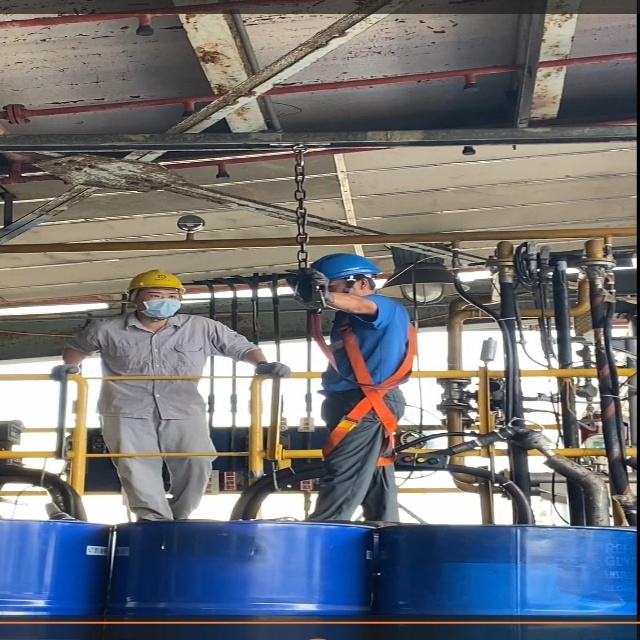Arnes_seguridad: (324, 307, 420, 467)
